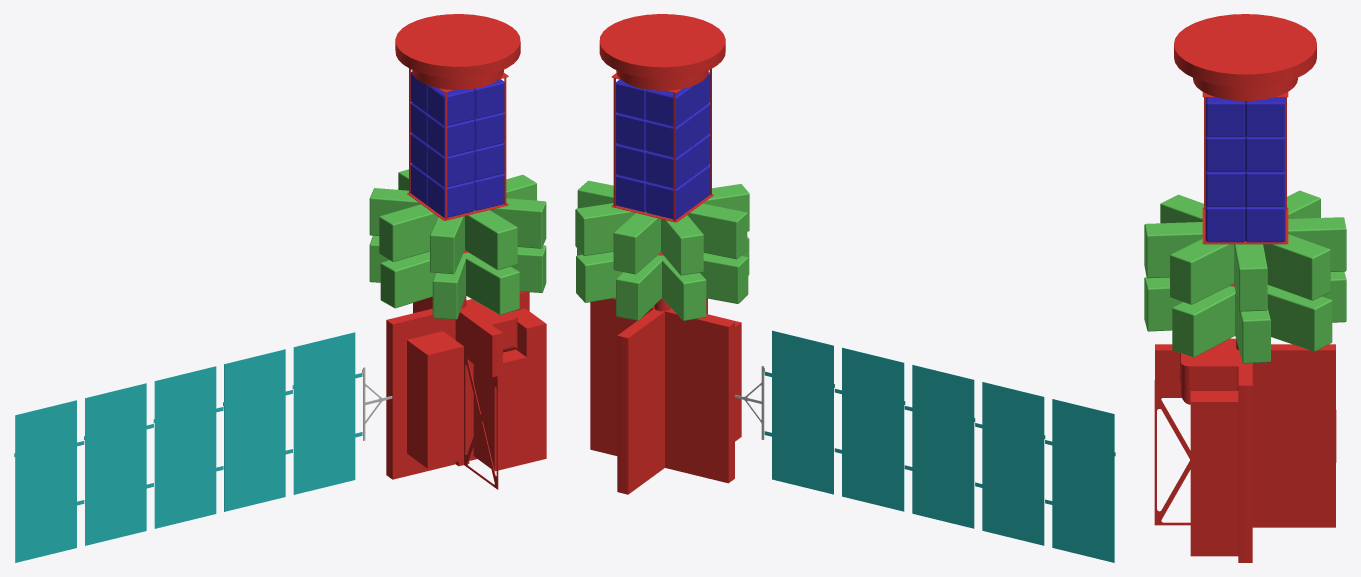
Rendered from mother-ship.glb.
3 views of the same model, side by side, from view 1: azimuth 30°, elevation 25°; view 2: azimuth 150°, elevation 25°; view 3: azimuth 270°, elevation 25° (orthographic). The views are drawn at different scales.
Parts seen in each view (by area): view 1: Body1, Body1.021, Body1.023, Body1.019, Body1.020, Body1.022, Body4.001, Body3.001, Body4, Body3, Body9.001, Body2.001 (+12 smaller); view 2: Body1, Body1.021, Body1.020, Body1.022, Body1.019, Body1.023, Body4.001, Body5.001, Body7.001, Body5, Body6.001, Body4 (+12 smaller); view 3: Body1, Body7.001, Body9.001, Body9, Body7, Body3.001, Body8.001, Body5.001, Body8, Body3, Body1.014, Body1.006 (+9 smaller).
Part boxes in pixels (<box>): Body1: <box>386,14,546,489</box>; Body1.021: <box>153,366,223,528</box>; Body1.023: <box>292,332,362,494</box>; Body1.019: <box>14,400,83,562</box>; Body1.020: <box>84,383,153,545</box>; Body1.022: <box>223,349,292,511</box>; Body4.001: <box>379,204,437,261</box>; Body3.001: <box>465,210,517,270</box>; Body4: <box>380,251,435,308</box>; Body3: <box>465,255,519,314</box>; Body9.001: <box>490,198,546,248</box>; Body2.001: <box>430,216,464,274</box>; Body1: <box>590,14,741,494</box>; Body1.021: <box>905,365,975,528</box>; Body1.020: <box>975,382,1045,545</box>; Body1.022: <box>835,347,905,511</box>; Body1.019: <box>1045,399,1115,562</box>; Body1.023: <box>764,330,834,494</box>; Body4.001: <box>687,203,747,259</box>; Body5.001: <box>613,211,660,274</box>; Body7.001: <box>575,203,635,255</box>; Body5: <box>616,258,662,320</box>; Body6.001: <box>661,215,703,275</box>; Body4: <box>700,253,748,303</box>; Body1: <box>1154,14,1336,562</box>; Body7.001: <box>1263,234,1330,300</box>; Body9.001: <box>1170,239,1233,304</box>; Body9: <box>1172,288,1235,357</box>; Body7: <box>1267,286,1332,351</box>; Body3.001: <box>1144,222,1202,278</box>; Body8.001: <box>1234,241,1267,311</box>; Body5.001: <box>1288,217,1346,271</box>; Body8: <box>1235,293,1270,363</box>; Body3: <box>1144,277,1182,331</box>; Body1.014: <box>1245,97,1284,136</box>; Body1.006: <box>1206,97,1245,136</box>.
Bounding box in the file's own units: 14.46 × 11.1 × 4.23.
